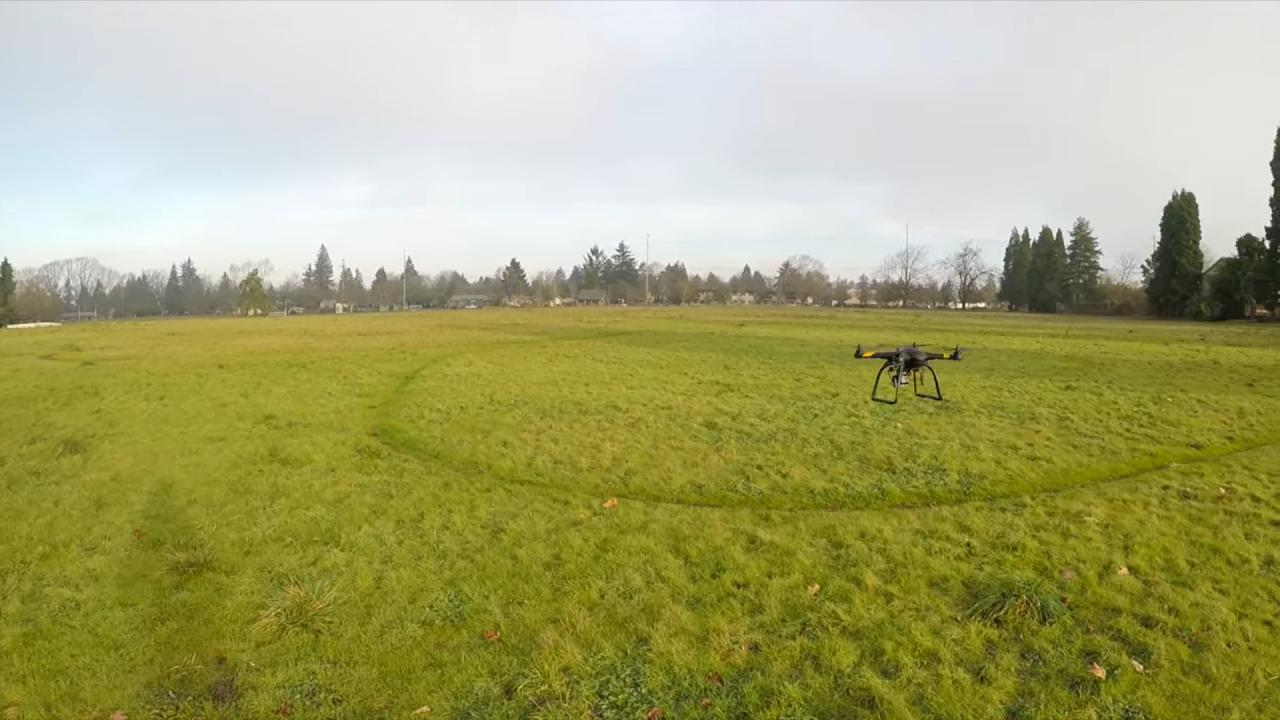Drone: (840, 336, 970, 417)
